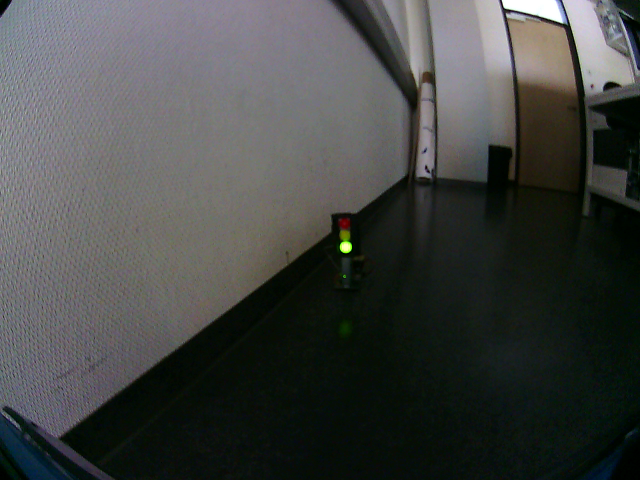green trafficlight: (334, 215, 354, 258)
